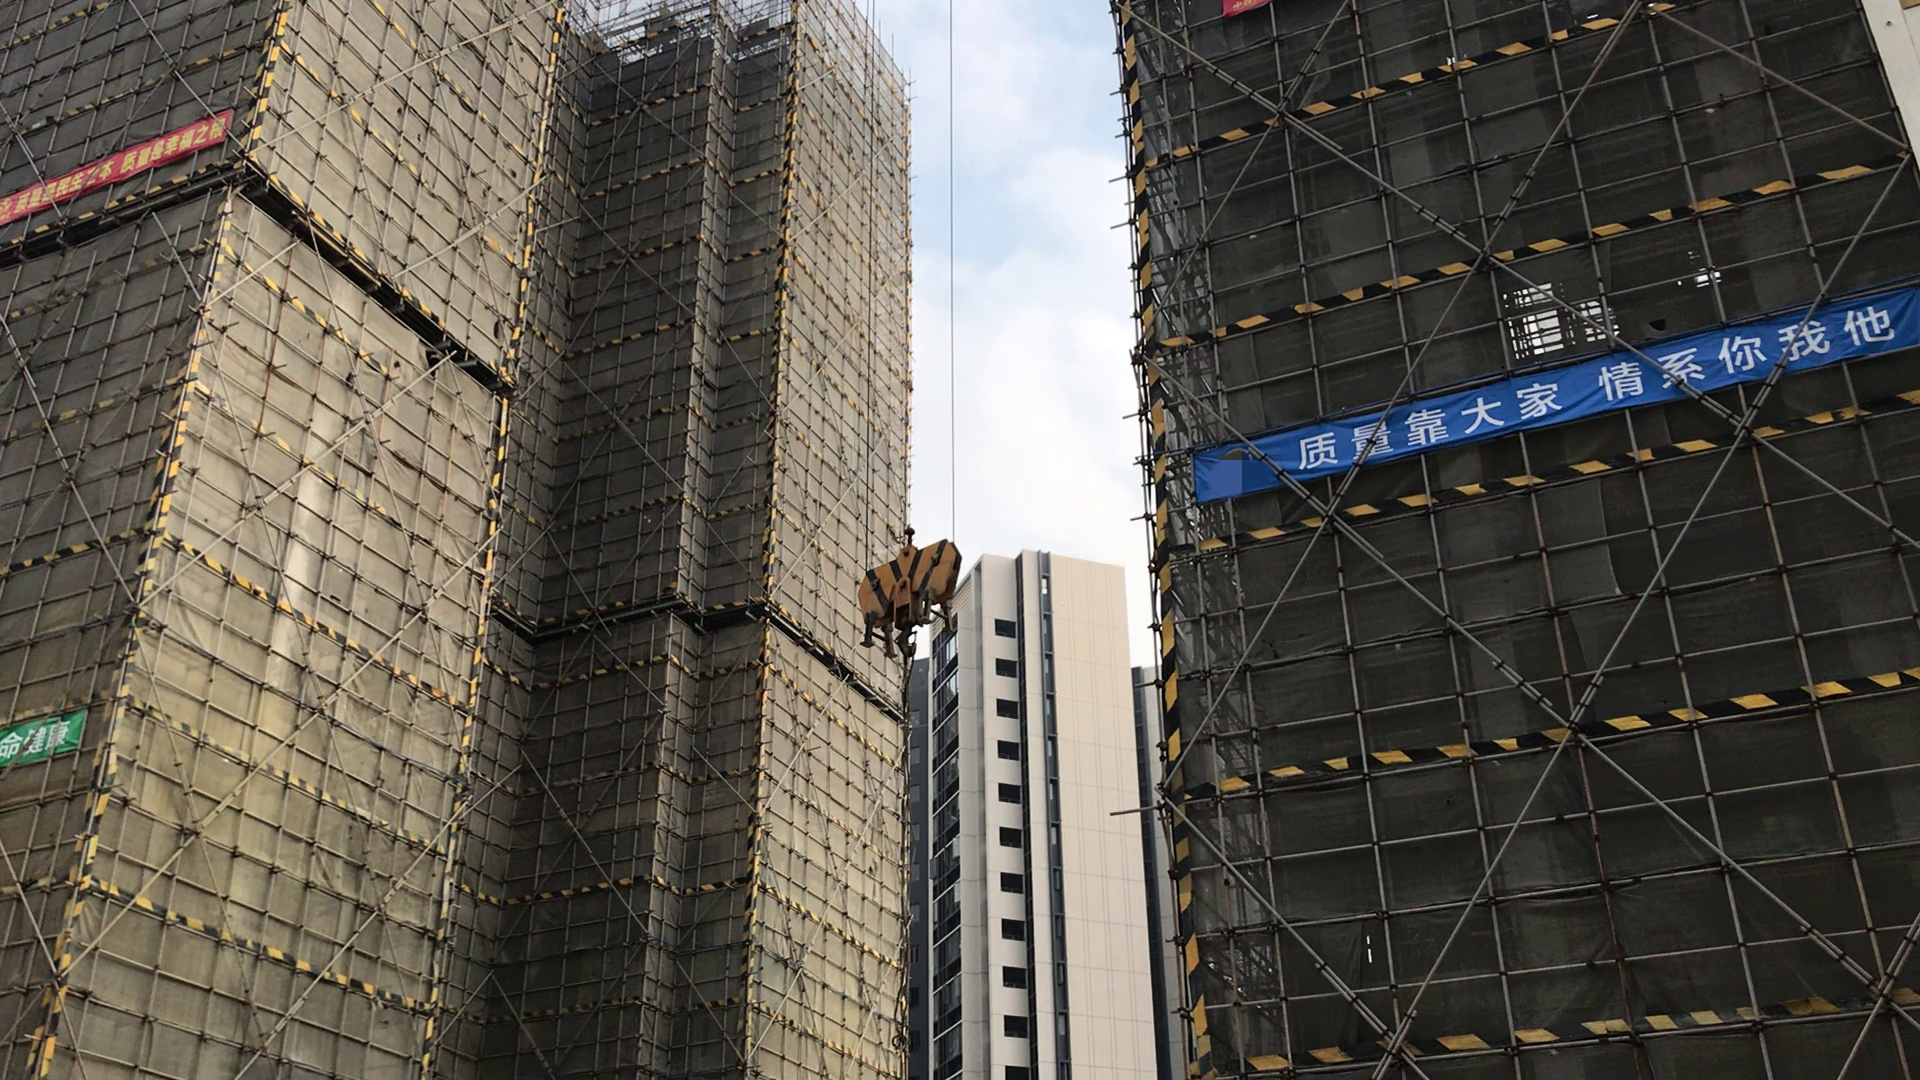hook: (852, 524, 969, 665)
slogan: (1208, 295, 1920, 531), (7, 111, 233, 237), (7, 708, 84, 764)
